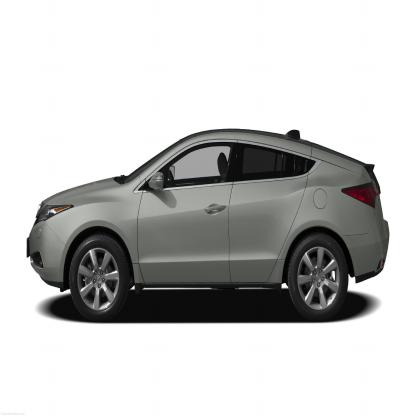Vehicle: (26, 129, 389, 322)
